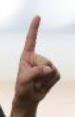up: (13, 12, 63, 106)
